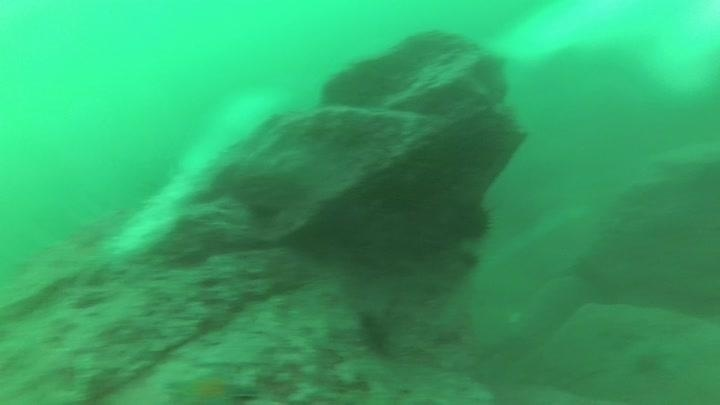echinus: (445, 197, 496, 245)
starfish: (162, 366, 261, 404)
